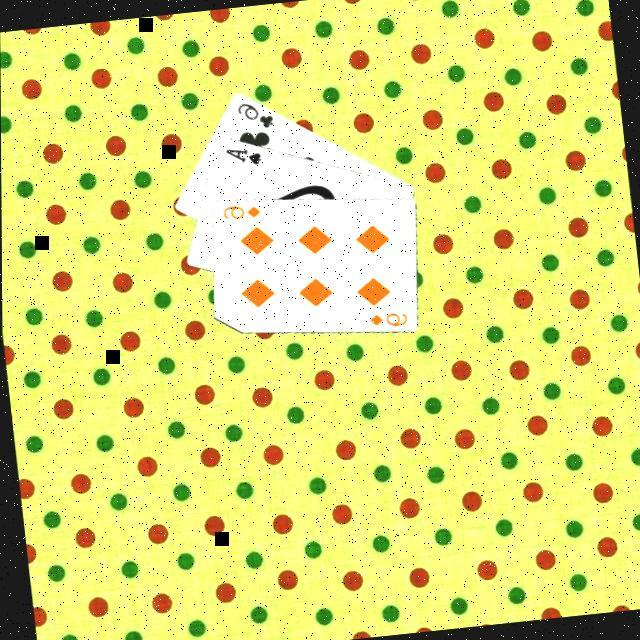6C: (232, 97, 275, 135)
6D: (217, 201, 262, 225), (364, 310, 409, 334)
AS: (221, 143, 263, 172)
